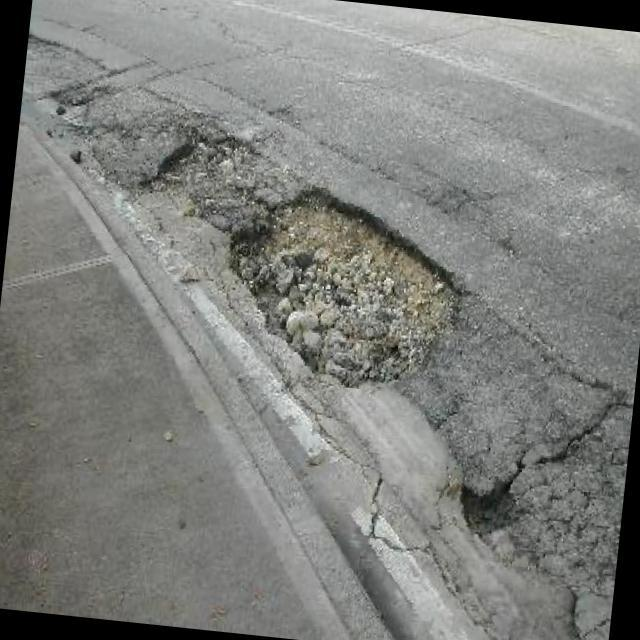Pothole: (166, 138, 460, 385), (464, 474, 545, 559)
